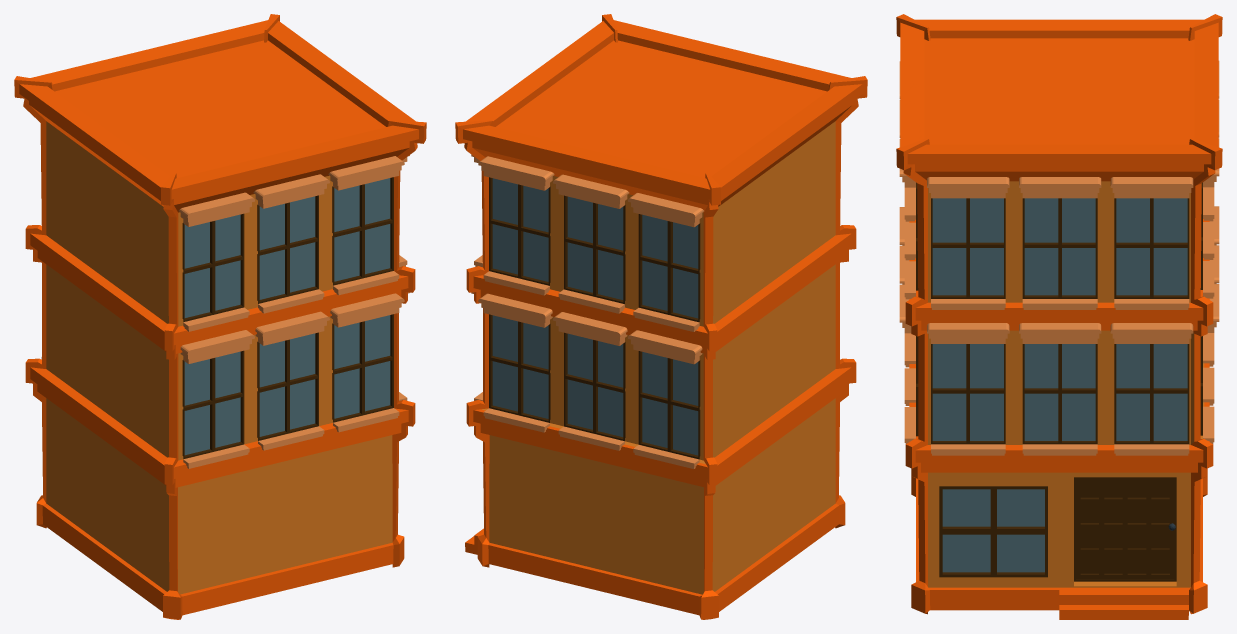
File: 3-Orange.fbx
3 renders of one model, left to right at view 1: azimuth 30°, elevation 25°; view 2: azimuth 150°, elevation 25°; view 3: azimuth 270°, elevation 25°, orthographic. The views are drawn at different scales.
Parts seen in each view (by area): view 1: Cube.009; view 2: Cube.009; view 3: Cube.009.
Boxes of the visible parts, x1=… form: Cube.009: x1=14, y1=14, x2=426, y2=619; Cube.009: x1=455, y1=14, x2=867, y2=619; Cube.009: x1=896, y1=14, x2=1222, y2=619.
Bounding box in the file's own units: 1421 × 1435 × 2274.
